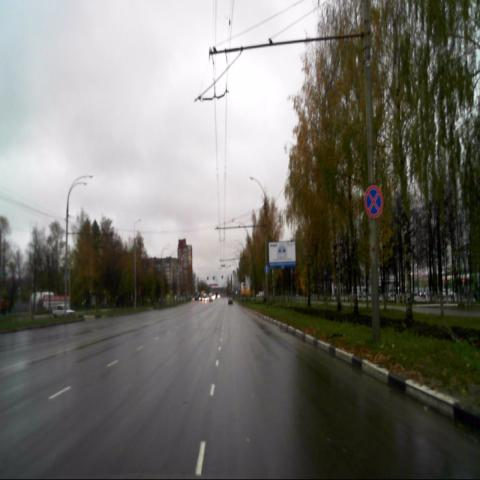3_27: (363, 186, 382, 218)
